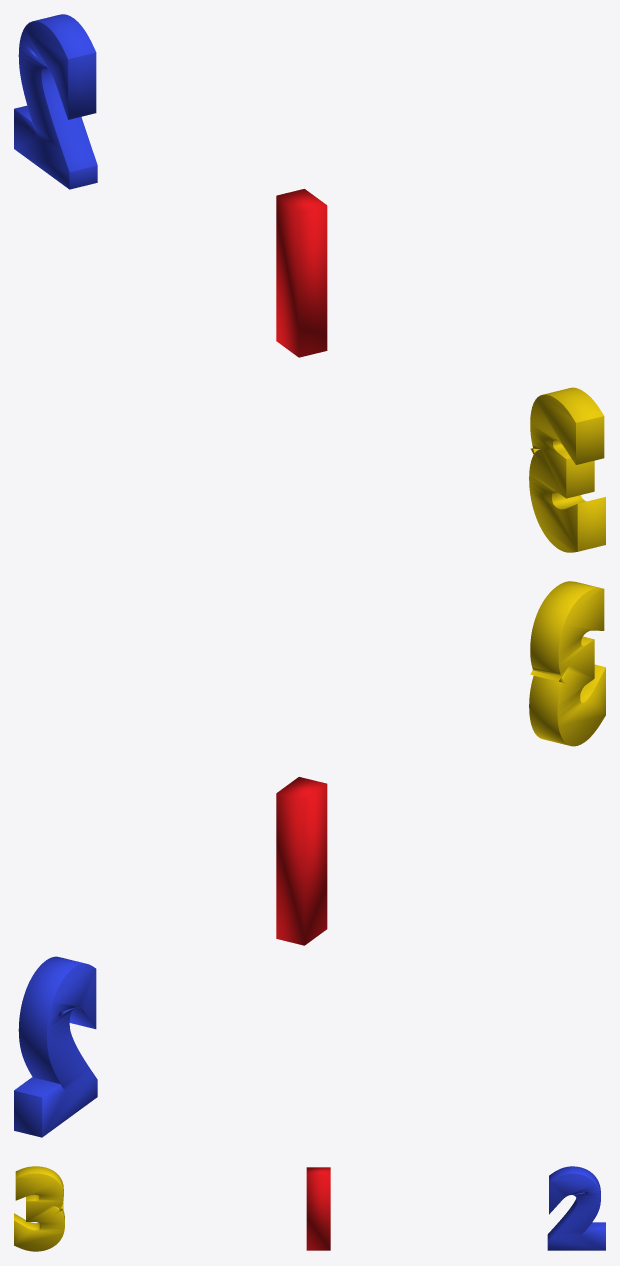
Rendered from WinningPlaceNumbers.glb.
The picture shows the model from 3 angles, top to bottom: view 1: azimuth 30°, elevation 25°; view 2: azimuth 150°, elevation 25°; view 3: azimuth 270°, elevation 25°; orthographic projection. The views are drawn at different scales.
Visible parts, largest first — view 1: 2ndPlace, 3rdPlace, 1stPlace; view 2: 2ndPlace, 3rdPlace, 1stPlace; view 3: 2ndPlace, 3rdPlace, 1stPlace.
Boxes of the visible parts, box(x1,y1,x2,y2) form: 2ndPlace: box(14, 14, 97, 189); 3rdPlace: box(529, 387, 605, 552); 1stPlace: box(276, 189, 327, 357); 2ndPlace: box(14, 956, 97, 1137); 3rdPlace: box(529, 581, 605, 746); 1stPlace: box(276, 777, 327, 945); 2ndPlace: box(547, 1166, 605, 1250); 3rdPlace: box(14, 1166, 64, 1251); 1stPlace: box(306, 1167, 330, 1250).
Size of the model in its own units: 0.2511 by 1.25 by 8.59.
